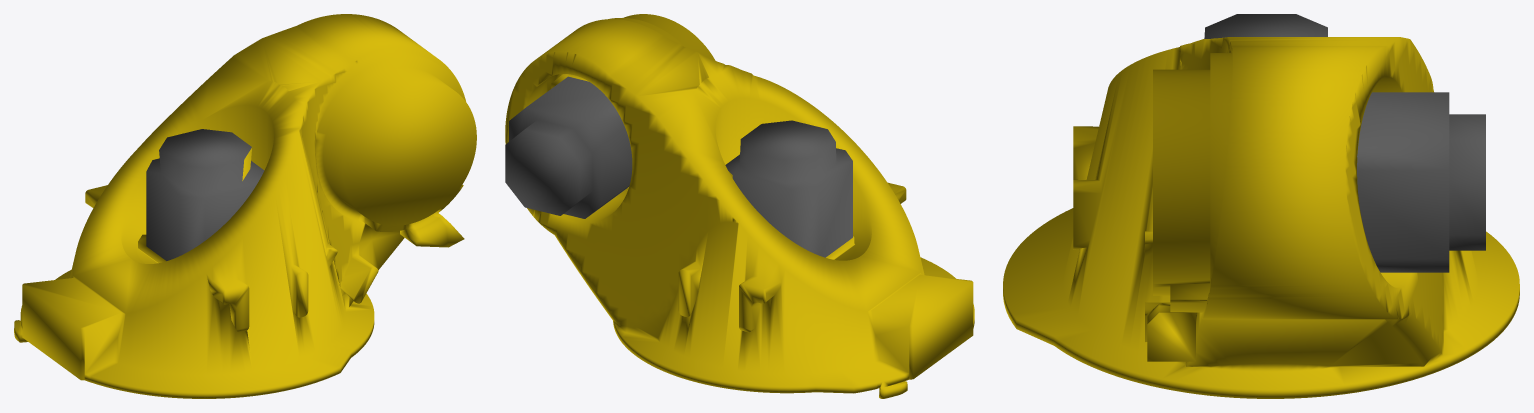
3 renders of one model, left to right at view 1: azimuth 30°, elevation 25°; view 2: azimuth 150°, elevation 25°; view 3: azimuth 270°, elevation 25°, orthographic. The views are drawn at different scales.
Visible parts, largest first — view 1: kr60_2; view 2: kr60_2; view 3: kr60_2.
Boxes of the visible parts, x1,y1,x2,y2 form: kr60_2: (14, 14, 476, 398); kr60_2: (505, 14, 974, 398); kr60_2: (1003, 14, 1519, 398).
Size of what is drawn, in the model's own units: 251 by 151 by 193.
